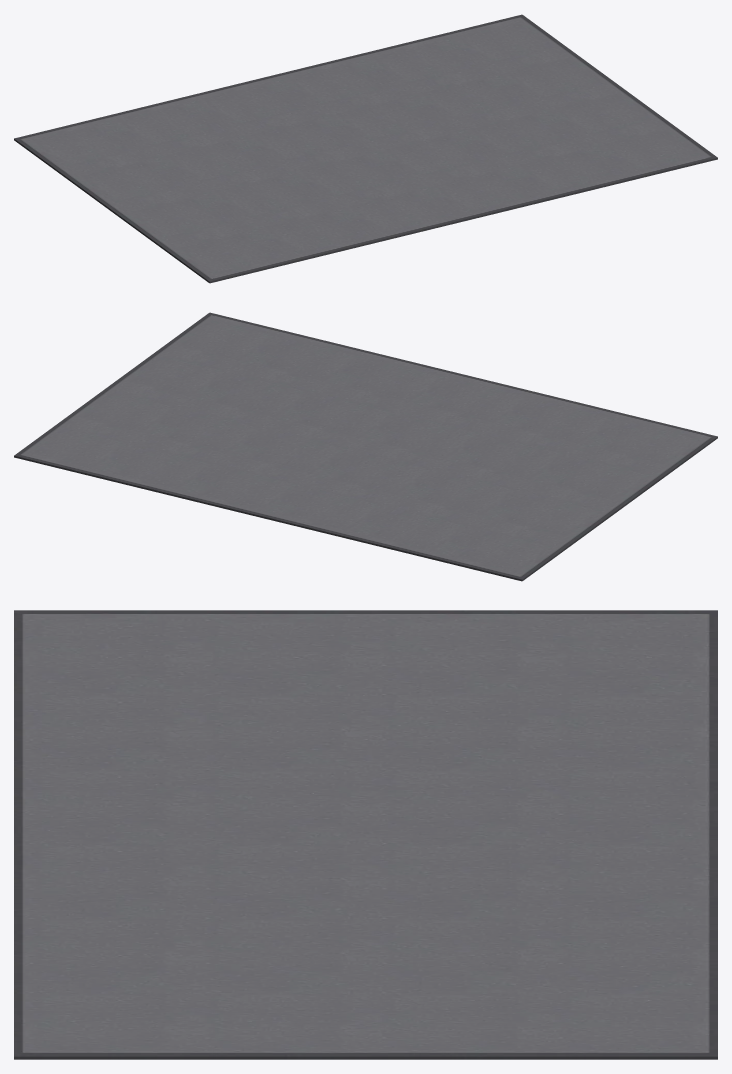
File: alfombra_gris_200x300.glb
3 renders of one model, top to bottom at view 1: azimuth 30°, elevation 25°; view 2: azimuth 150°, elevation 25°; view 3: azimuth 270°, elevation 25°, orthographic. The views are drawn at different scales.
Parts seen in each view (by area): view 1: alfombra_gris_200x300; view 2: alfombra_gris_200x300; view 3: alfombra_gris_200x300.
Part boxes in pixels (x1,y1,x2,y2): alfombra_gris_200x300: (14,14,717,283); alfombra_gris_200x300: (14,312,717,581); alfombra_gris_200x300: (14,610,717,1059).
Size of the model in its own units: 3 by 0.01 by 2.
Materials: 1 (1 with a texture image).
